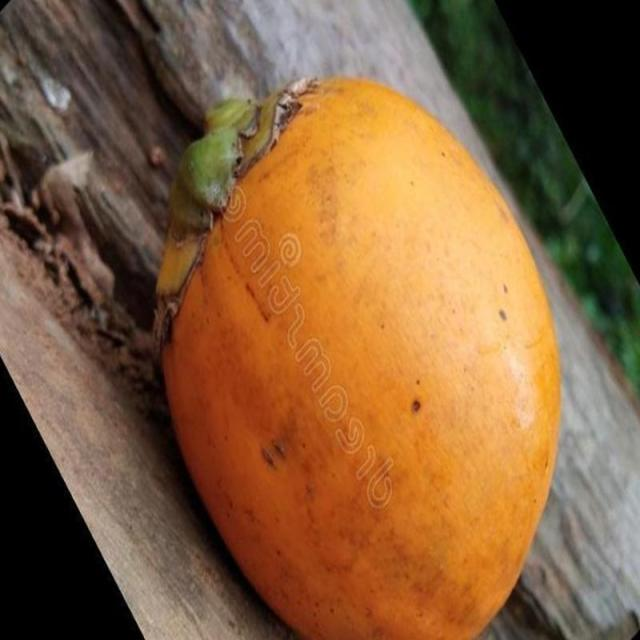good: (158, 77, 633, 639)
